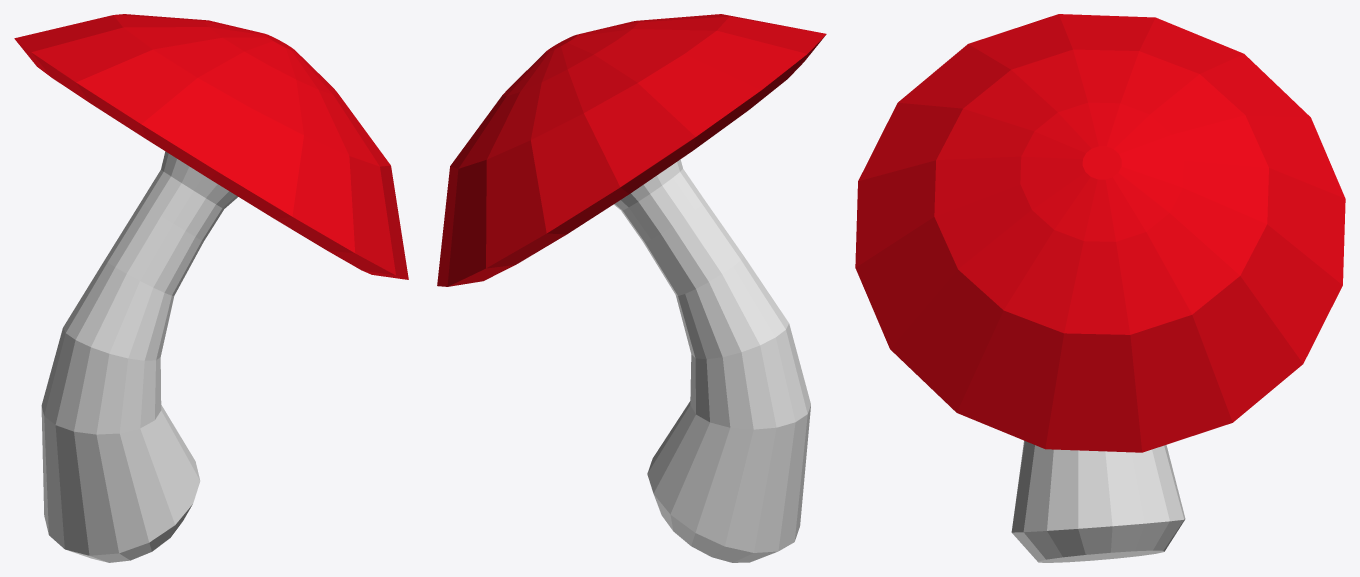
Rendered from mushroom_1.glb.
The picture shows the model from 3 angles, left to right: view 1: azimuth 30°, elevation 25°; view 2: azimuth 150°, elevation 25°; view 3: azimuth 270°, elevation 25°; orthographic projection. The views are drawn at different scales.
Parts seen in each view (by area): view 1: Cylinder; view 2: Cylinder; view 3: Cylinder.
Boxes of the visible parts, x1,y1,x2,y2 form: Cylinder: [14, 14, 408, 562]; Cylinder: [437, 14, 826, 562]; Cylinder: [855, 14, 1345, 562].
Size of the model in its own units: 6.15 by 9.23 by 7.6.
